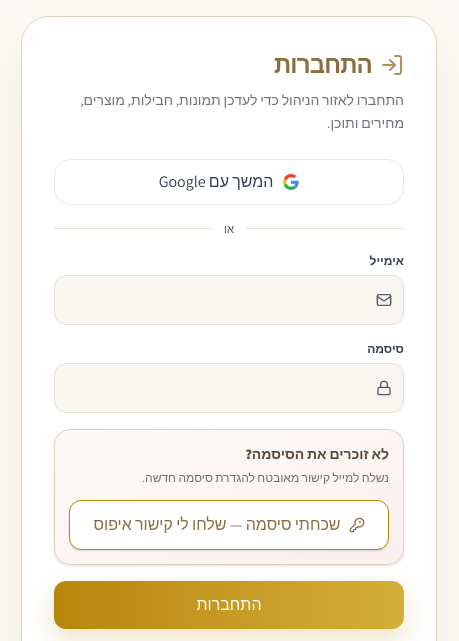
LoginPage › shows the error returned by signIn
The width and height of the screenshot is (459, 641).
Type "a@b.com" into the field labelled "אימייל" at (229, 300), box x1=54 y1=275 x2=404 y2=325
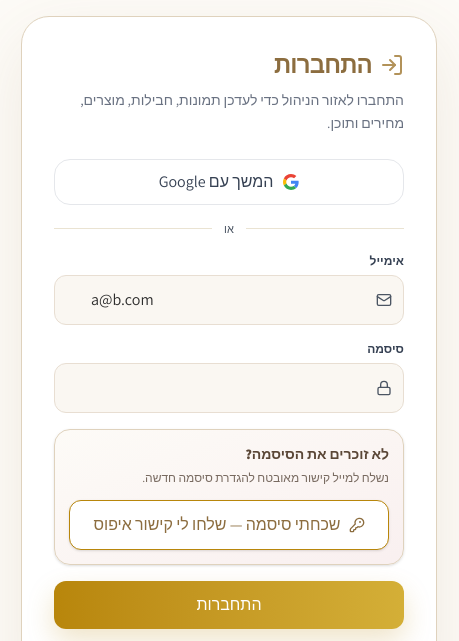
Type "x" into the password field labelled "סיסמה" at (229, 388), box x1=54 y1=363 x2=404 y2=413
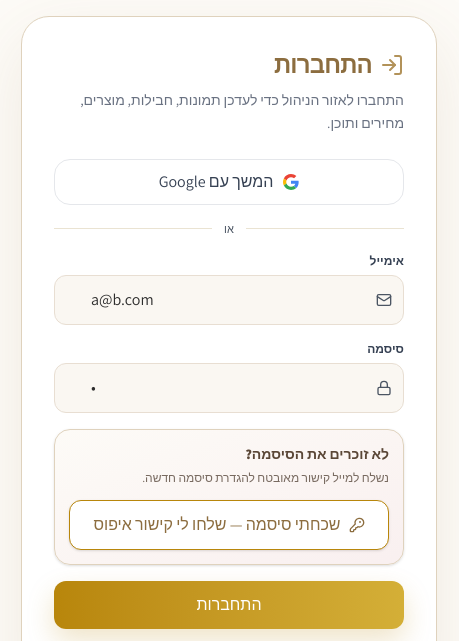
Click the button "התחברות" at (229, 604), box x1=54 y1=580 x2=404 y2=628
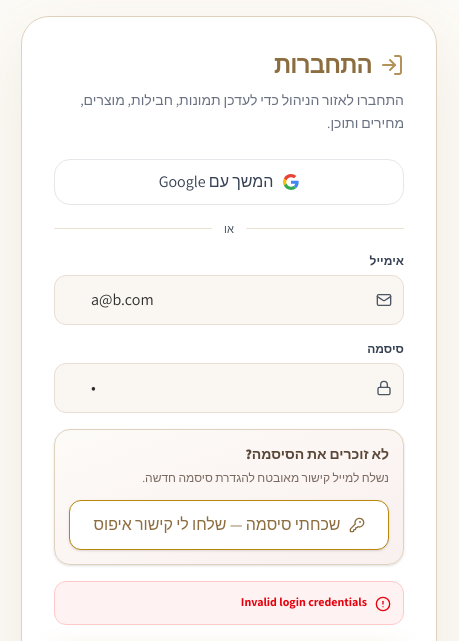
Now the text "Invalid login credentials" is shown, box x1=54 y1=580 x2=404 y2=624
